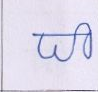i_matra: (77, 22, 94, 59)
